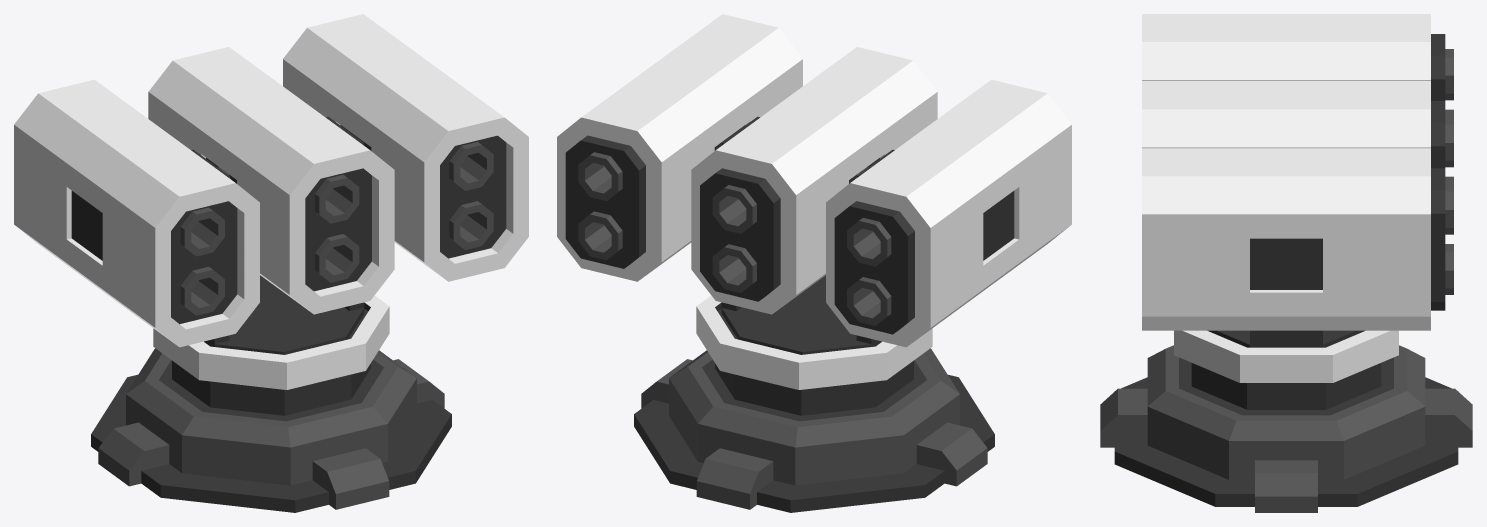
The model's file is Rocket_3.fbx.
3 renders of one model, left to right at view 1: azimuth 30°, elevation 25°; view 2: azimuth 150°, elevation 25°; view 3: azimuth 270°, elevation 25°, orthographic. The views are drawn at different scales.
Visible parts, largest first — view 1: Body_Mesh, Base_Mesh, Upper_Mesh; view 2: Body_Mesh, Base_Mesh, Upper_Mesh; view 3: Body_Mesh, Base_Mesh, Upper_Mesh.
Part boxes in pixels (left/top/right/bottom): Body_Mesh: left=14, top=14, right=528, bottom=347; Base_Mesh: left=91, top=348, right=451, bottom=512; Upper_Mesh: left=153, top=116, right=389, bottom=415; Body_Mesh: left=557, top=14, right=1071, bottom=347; Base_Mesh: left=634, top=348, right=994, bottom=512; Upper_Mesh: left=696, top=116, right=932, bottom=415; Body_Mesh: left=1142, top=14, right=1453, bottom=330; Base_Mesh: left=1100, top=345, right=1472, bottom=512; Upper_Mesh: left=1174, top=330, right=1398, bottom=409.
Bounding box in the file's own units: 1.54 × 1.31 × 1.3.
